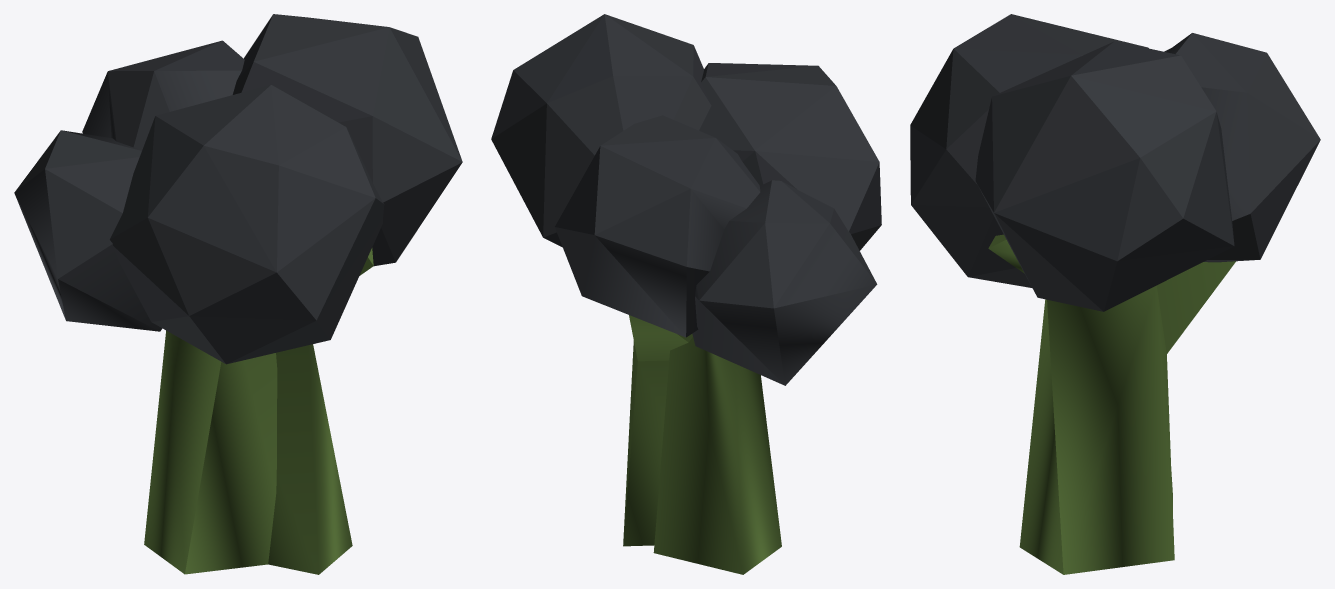
The model's file is cc0-broccoli-lod1.glb.
3 views of the same model, side by side, from view 1: azimuth 30°, elevation 25°; view 2: azimuth 150°, elevation 25°; view 3: azimuth 270°, elevation 25° (orthographic). The views are drawn at different scales.
Parts seen in each view (by area): view 1: part_0; view 2: part_0; view 3: part_0.
Part boxes in pixels (x1=…): part_0: x1=14, y1=14, x2=462, y2=574; part_0: x1=491, y1=14, x2=881, y2=574; part_0: x1=910, y1=14, x2=1320, y2=574.
Size of the model in its own units: 0.7264 by 0.8996 by 0.6444.
